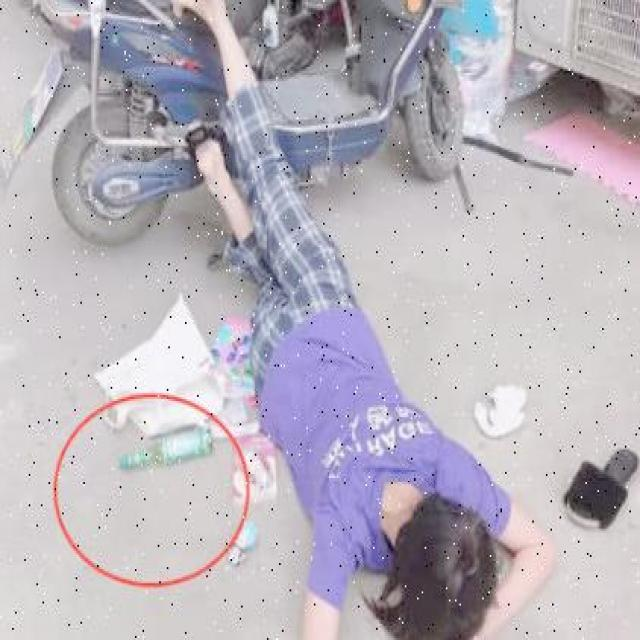fall: (226, 67, 543, 614)
